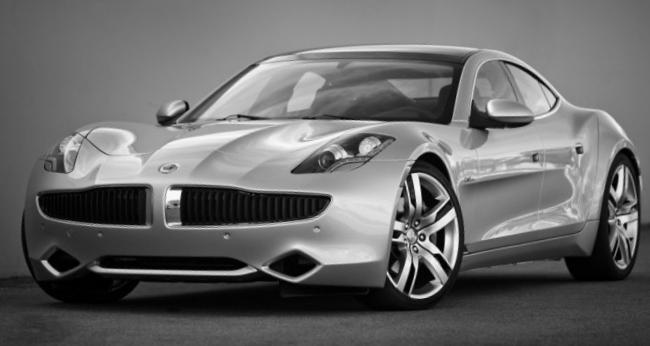car: (22, 46, 643, 311)
